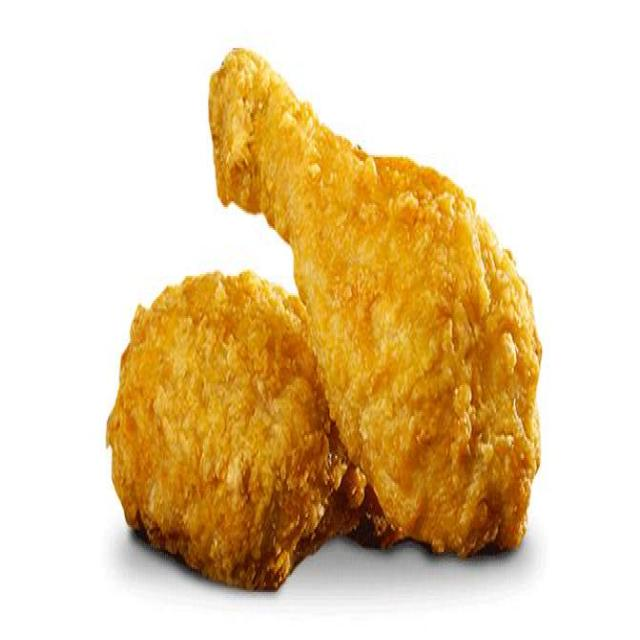Frango: (205, 32, 555, 576), (109, 270, 468, 592)
